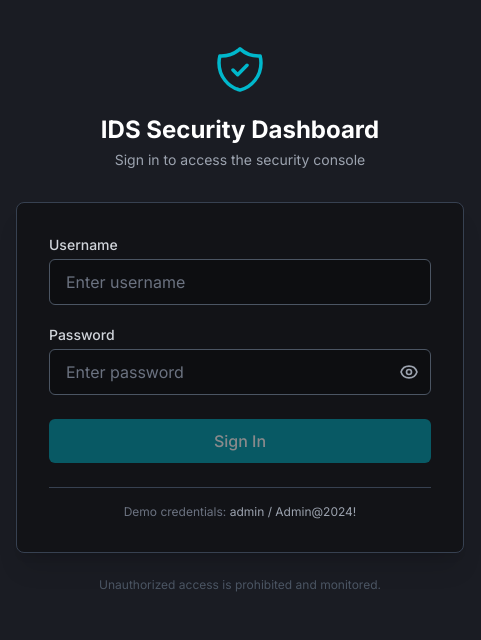
it: AuthContext › shows error on invalid credentials
Type "admin" into the field labelled "Username".
click(240, 282); type("admin")  # box [49, 258, 431, 304]
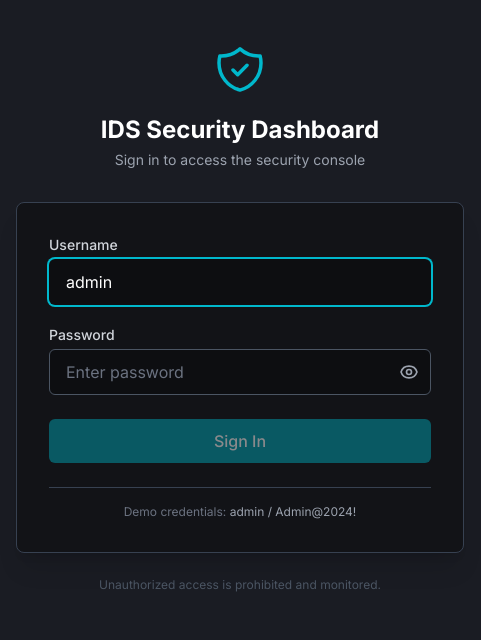
Type "wrongpassword" into the password field with placeholder "Enter password".
click(240, 372); type("wrongpassword")  # box [49, 348, 431, 394]
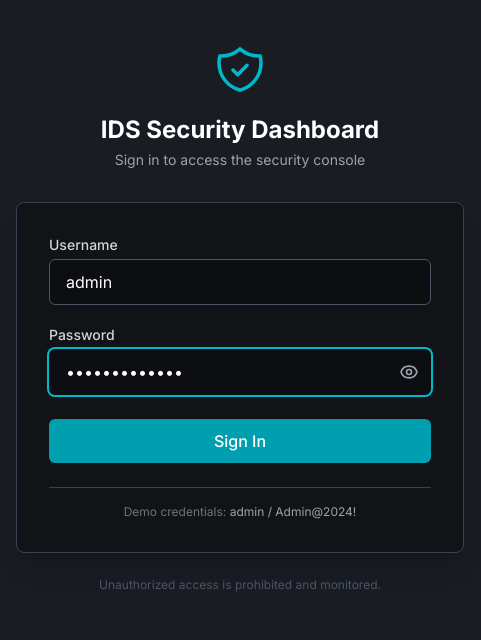
Click the button "Sign In".
click(240, 440)  # box [49, 418, 431, 462]
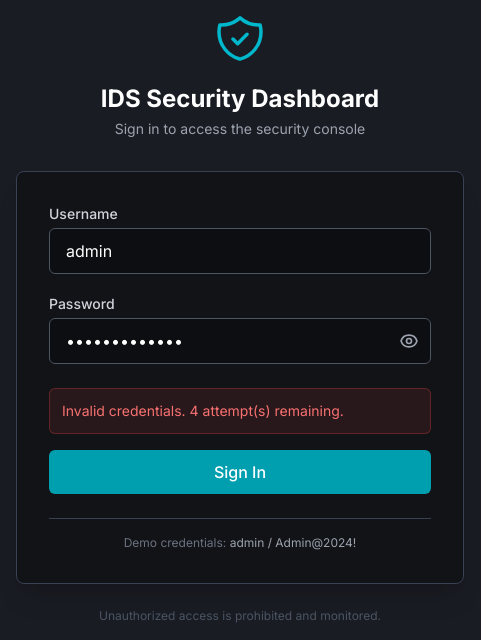
Check: the message "Invalid credentials. 4 attempt(s) remaining." is shown, box [49, 388, 431, 434]
Check: the message shows "Invalid credentials", box [62, 402, 344, 418]
